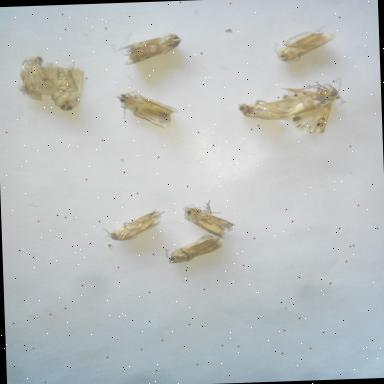abw: (279, 74, 356, 136), (110, 85, 180, 132), (268, 22, 342, 64), (176, 196, 240, 243), (98, 206, 170, 246), (118, 29, 190, 69), (46, 56, 92, 113), (163, 232, 227, 266), (230, 92, 297, 124), (14, 53, 57, 101)
